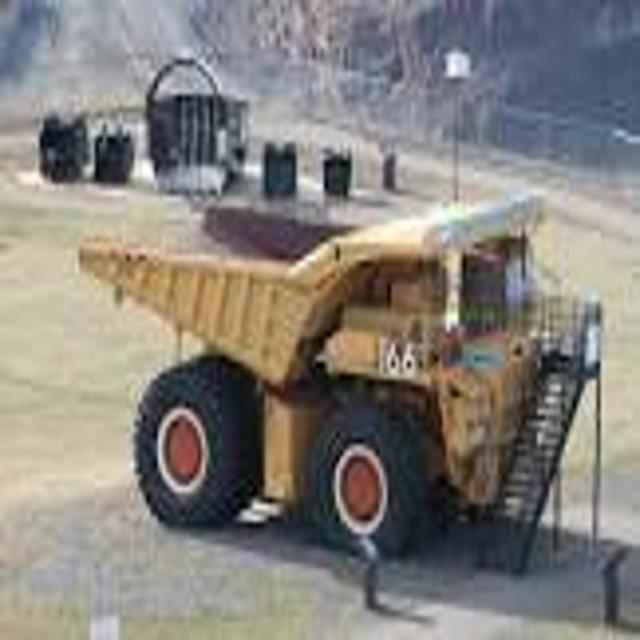dump_truck: (79, 204, 610, 572)
